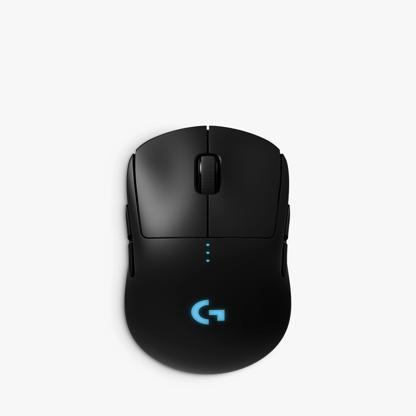not trash: (118, 121, 298, 375)
